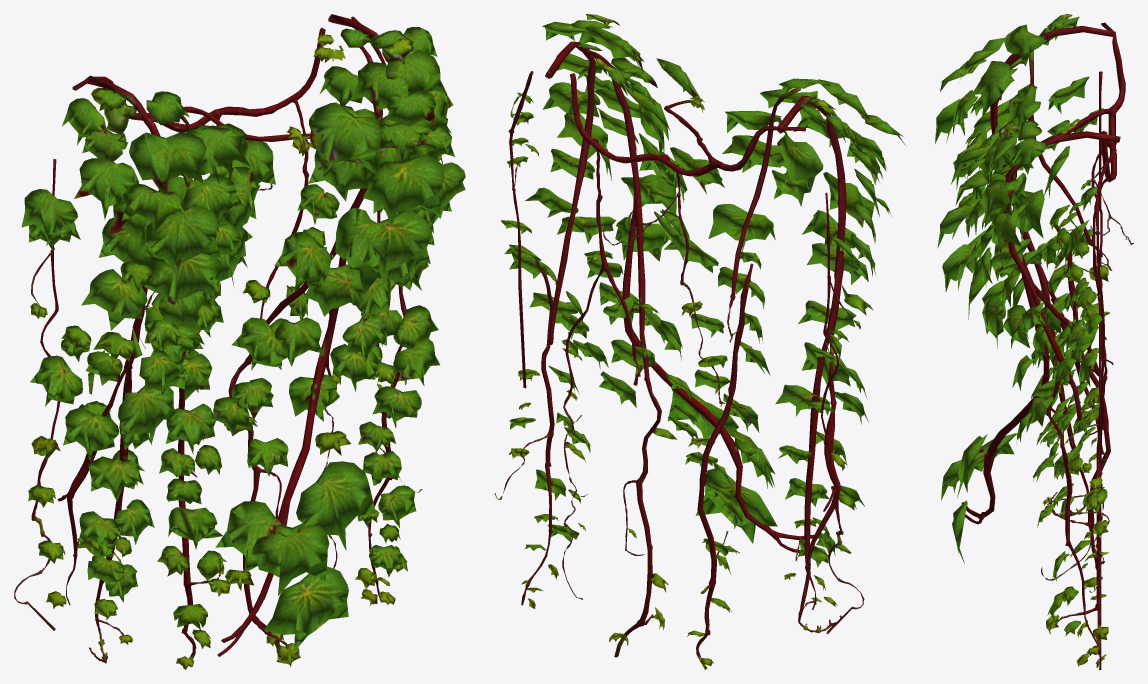
3 views of the same model, side by side, from view 1: azimuth 30°, elevation 25°; view 2: azimuth 150°, elevation 25°; view 3: azimuth 270°, elevation 25° (orthographic). The views are drawn at different scales.
Visible parts, largest first — view 1: Model_0; view 2: Model_0; view 3: Model_0.
Part boxes in pixels (box(x1,y1,x2,y2)): Model_0: box(14, 14, 465, 669); Model_0: box(494, 14, 905, 669); Model_0: box(935, 14, 1133, 669).
Bounding box in the file's own units: 0.6673 × 1 × 0.3229.
1 material, 1 textured.
